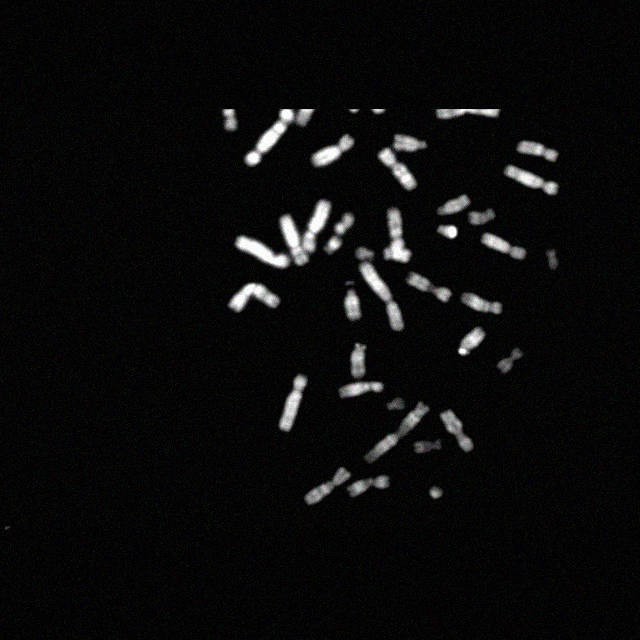chromosome: (366, 401, 428, 465), (360, 263, 406, 331), (236, 235, 288, 271), (302, 467, 350, 505), (278, 374, 308, 434), (505, 164, 559, 196), (245, 124, 283, 166), (378, 148, 416, 190), (228, 282, 278, 312), (280, 214, 308, 266), (312, 134, 354, 168), (304, 199, 330, 253), (441, 410, 474, 452), (408, 271, 450, 303), (481, 231, 525, 261), (461, 292, 502, 314), (386, 208, 404, 258), (518, 140, 558, 162), (348, 475, 388, 497), (458, 326, 484, 356), (338, 382, 384, 398), (438, 194, 470, 216), (436, 108, 499, 118), (497, 349, 523, 373), (394, 133, 428, 151), (350, 343, 366, 377), (345, 288, 361, 320), (274, 110, 294, 134), (470, 208, 496, 226), (335, 212, 355, 235), (384, 248, 411, 262), (416, 440, 442, 454), (324, 236, 342, 256), (224, 108, 238, 130), (437, 224, 457, 238), (355, 247, 375, 261), (386, 398, 406, 412), (546, 250, 558, 270), (430, 485, 442, 499)
